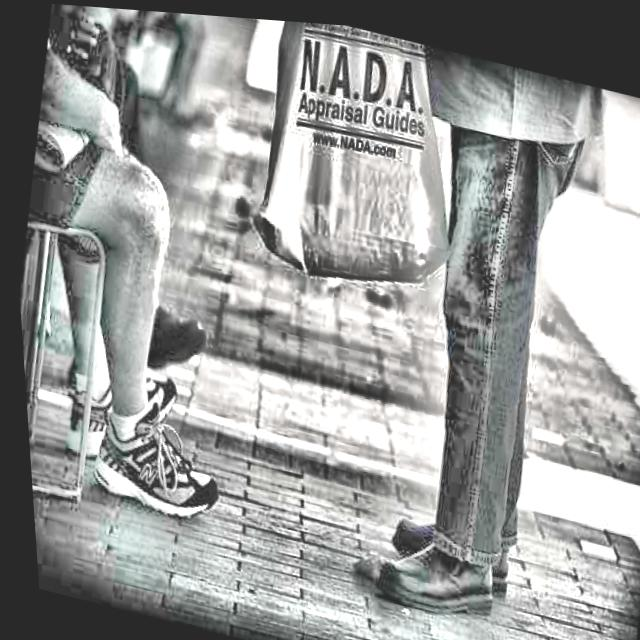Plastic: (220, 13, 493, 316)
